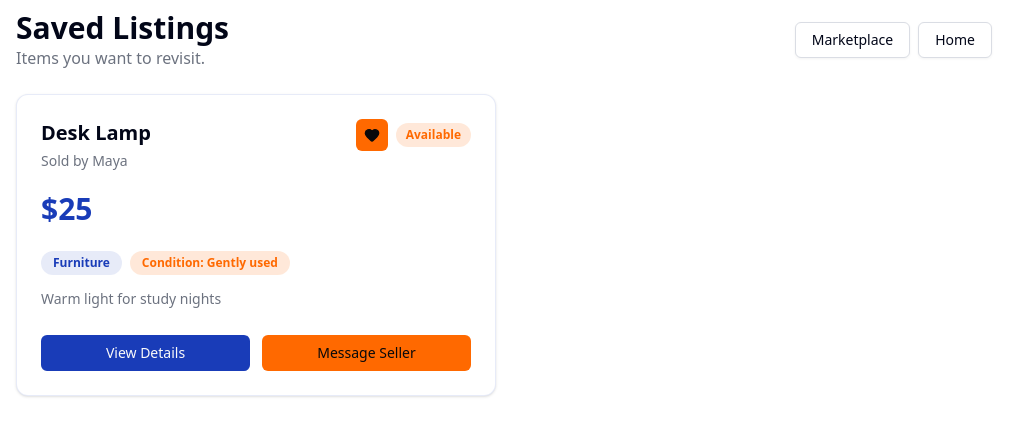
Test: FavoritesPage › removes a listing from saved listings
Expected: the text "Desk Lamp" is shown, [41,119,151,147]
Click the button named "Remove Desk Lamp from saved listings": {"x": 372, "y": 135} [356,119,388,151]
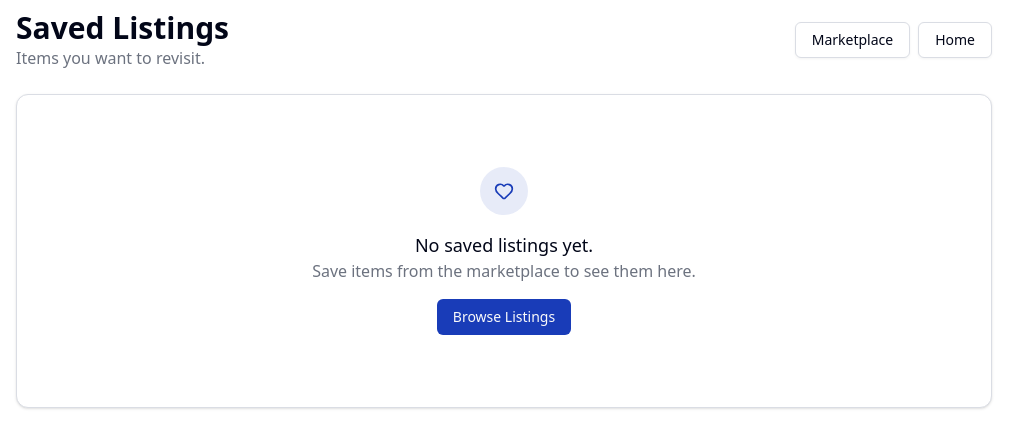
Now the text "Desk Lamp" is gone
